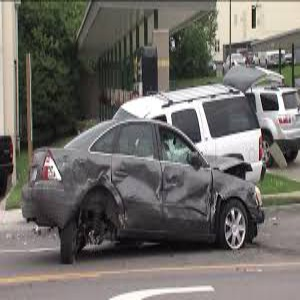door: (121, 169, 212, 235)
